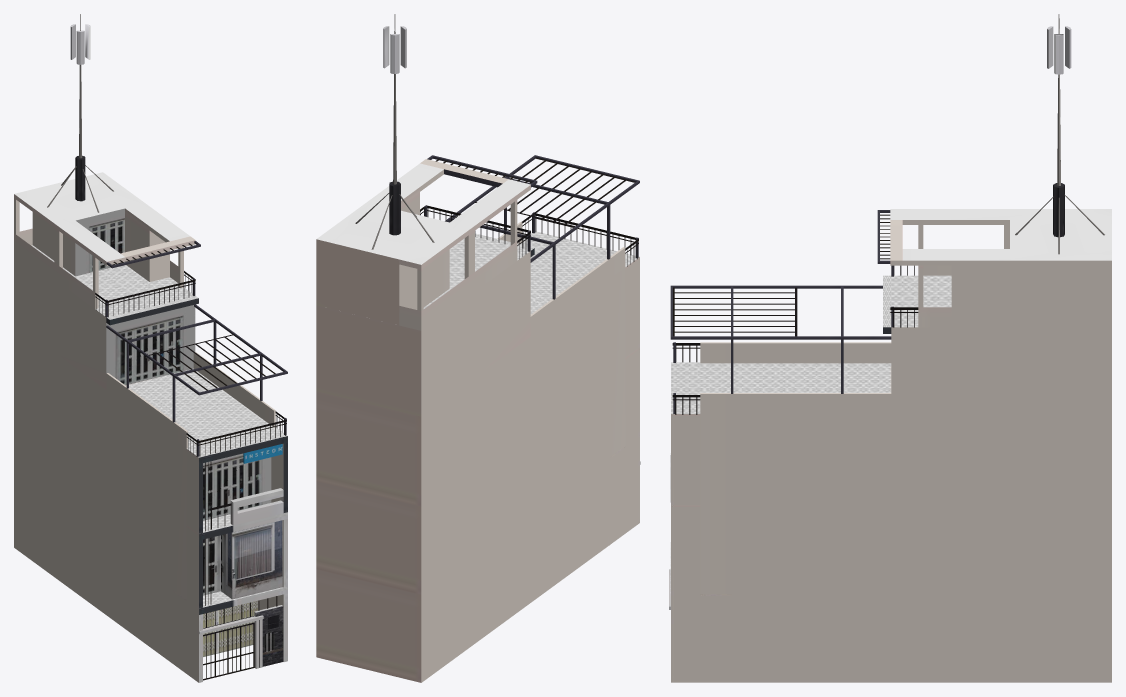
3 renders of one model, left to right at view 1: azimuth 30°, elevation 25°; view 2: azimuth 150°, elevation 25°; view 3: azimuth 270°, elevation 25°, orthographic. The views are drawn at different scales.
Parts seen in each view (by area): view 1: 5c56b00d19358e0c30dbca82; view 2: 5c56b00d19358e0c30dbca82; view 3: 5c56b00d19358e0c30dbca82.
Boxes of the visible parts, box(x1,y1,x2,y2) form: 5c56b00d19358e0c30dbca82: box(14, 14, 287, 682); 5c56b00d19358e0c30dbca82: box(316, 14, 640, 682); 5c56b00d19358e0c30dbca82: box(669, 14, 1111, 682).
Bounding box in the file's own units: 5.01 × 28.96 × 18.07.
1 material, 1 textured.
